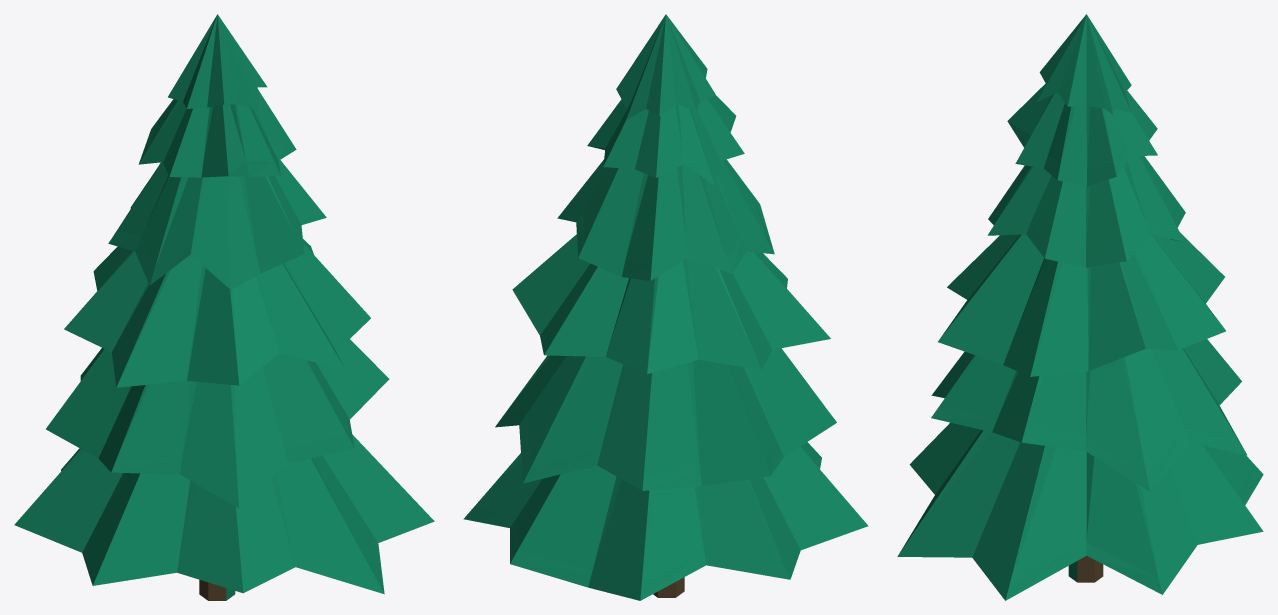
File: spruce3.obj
3 renders of one model, left to right at view 1: azimuth 30°, elevation 25°; view 2: azimuth 150°, elevation 25°; view 3: azimuth 270°, elevation 25°, orthographic. The views are drawn at different scales.
Size of the model in its own units: 5.96 by 9.73 by 5.74.
